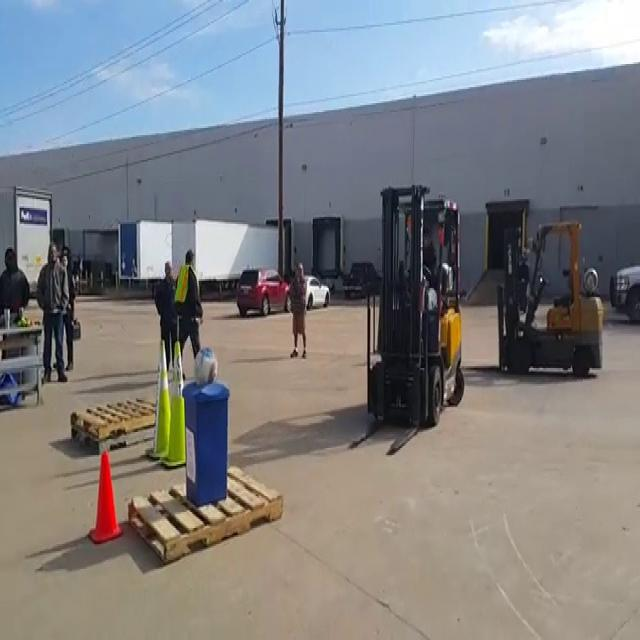Chariot elevateur: (368, 192, 470, 452), (492, 212, 609, 388)
